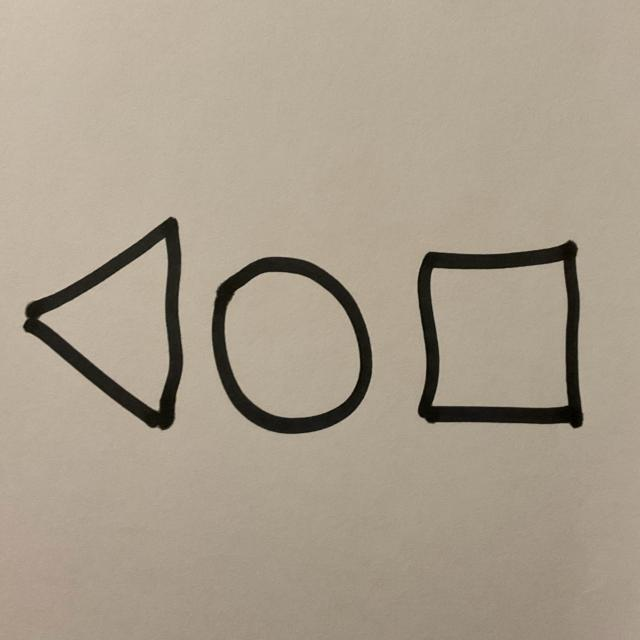Dreieck: (24, 218, 185, 433)
Kreis: (211, 256, 375, 438)
Quadrat: (416, 242, 585, 431)
